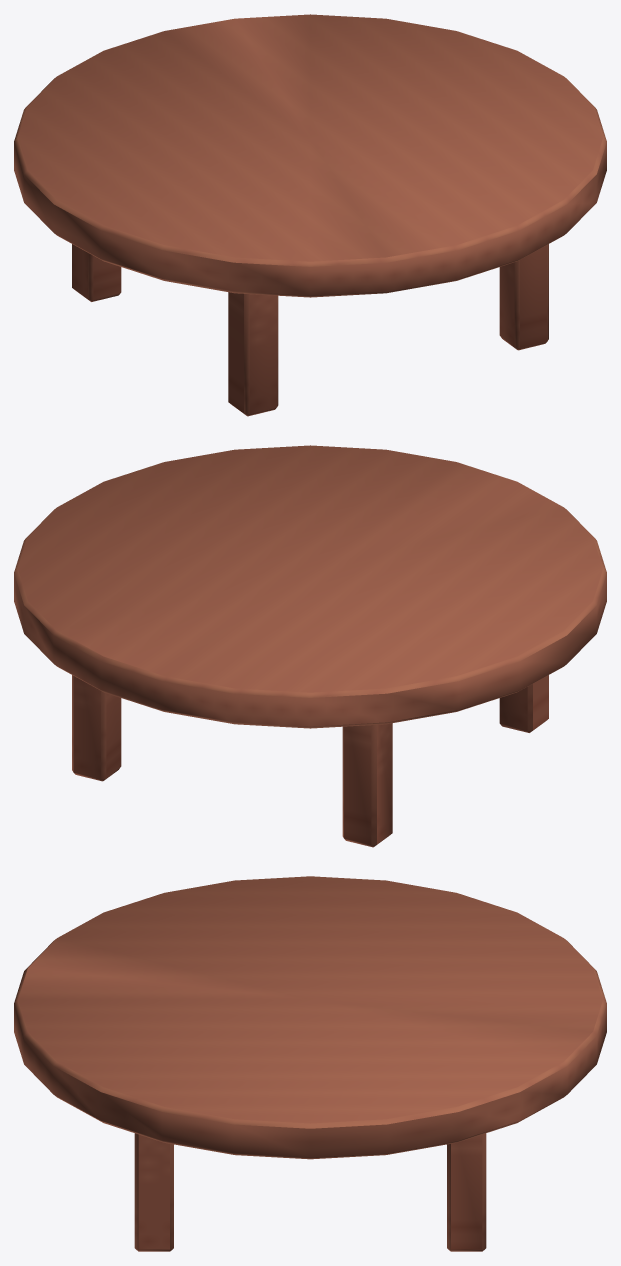
The model's file is table_round_B.gltf.
The picture shows the model from 3 angles, top to bottom: view 1: azimuth 30°, elevation 25°; view 2: azimuth 150°, elevation 25°; view 3: azimuth 270°, elevation 25°; orthographic projection.
Parts seen in each view (by area): view 1: table_round_B; view 2: table_round_B; view 3: table_round_B.
Boxes of the visible parts, x1=… form: table_round_B: x1=14, y1=14, x2=606, y2=416; table_round_B: x1=14, y1=445, x2=606, y2=847; table_round_B: x1=14, y1=876, x2=606, y2=1251.
Bounding box in the file's own units: 3 × 1 × 3.
1 material, 1 textured.
